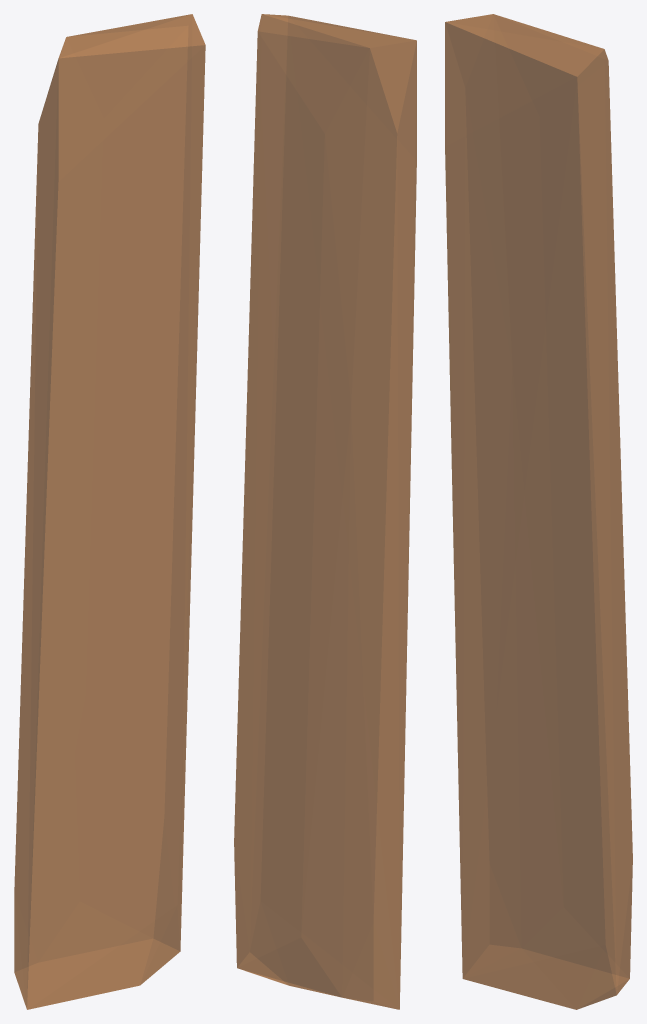
3 renders of one model, left to right at view 1: azimuth 30°, elevation 25°; view 2: azimuth 150°, elevation 25°; view 3: azimuth 330°, elevation 25°, orthographic. The views are drawn at different scales.
Parts seen in each view (by area): view 1: Shape_IndexedFaceSet.023_Shape_IndexedFaceSet.3680; view 2: Shape_IndexedFaceSet.023_Shape_IndexedFaceSet.3680; view 3: Shape_IndexedFaceSet.023_Shape_IndexedFaceSet.3680.
Part boxes in pixels (box(x1,y1,x2,y2)): Shape_IndexedFaceSet.023_Shape_IndexedFaceSet.3680: box(14, 14, 205, 1009); Shape_IndexedFaceSet.023_Shape_IndexedFaceSet.3680: box(234, 14, 416, 1009); Shape_IndexedFaceSet.023_Shape_IndexedFaceSet.3680: box(445, 14, 632, 1009).
Bounding box in the file's own units: 0.0616 × 0.3734 × 0.0392.
